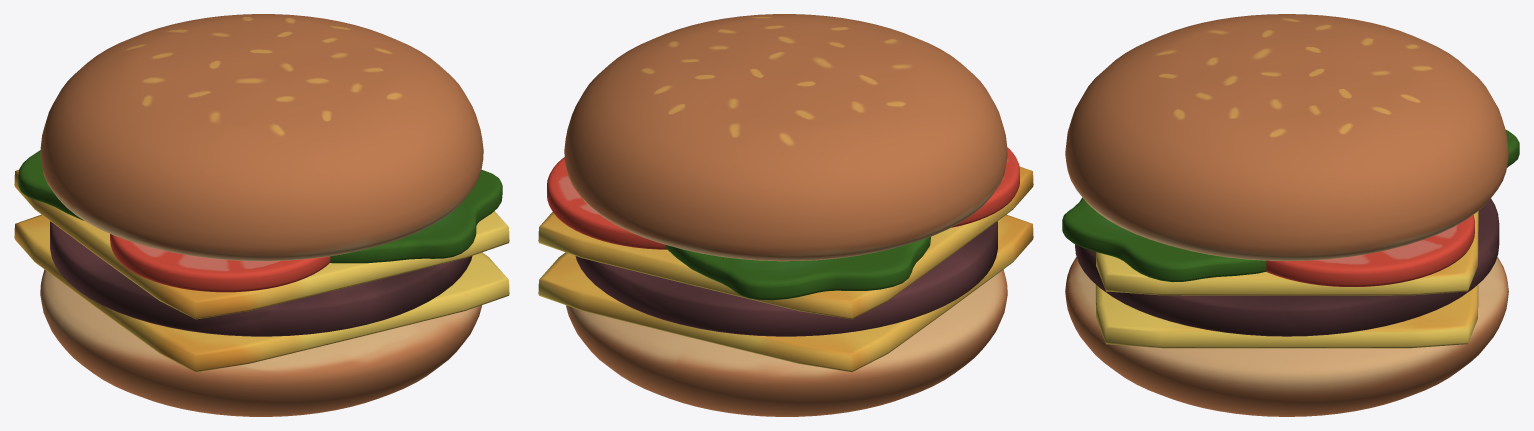
3 renders of one model, left to right at view 1: azimuth 30°, elevation 25°; view 2: azimuth 150°, elevation 25°; view 3: azimuth 270°, elevation 25°, orthographic.
Parts seen in each view (by area): view 1: Cylinder.010; view 2: Cylinder.010; view 3: Cylinder.010.
Part boxes in pixels (x1,y1,x2,y2): Cylinder.010: (14, 14, 509, 416); Cylinder.010: (538, 14, 1033, 416); Cylinder.010: (1062, 14, 1519, 416).
Size of the model in its own units: 1.98 by 1.42 by 2.05.
1 material, 1 textured.
